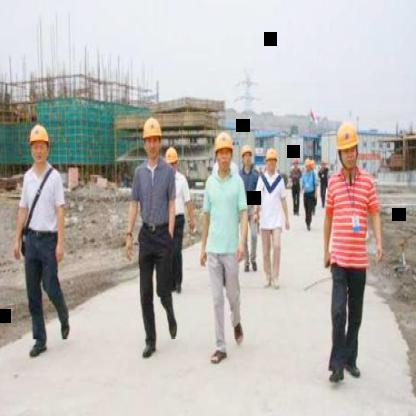helmet: (335, 118, 361, 172), (140, 112, 164, 162), (27, 120, 53, 166), (212, 127, 236, 175), (166, 141, 182, 181), (260, 142, 278, 177), (238, 140, 254, 172)
